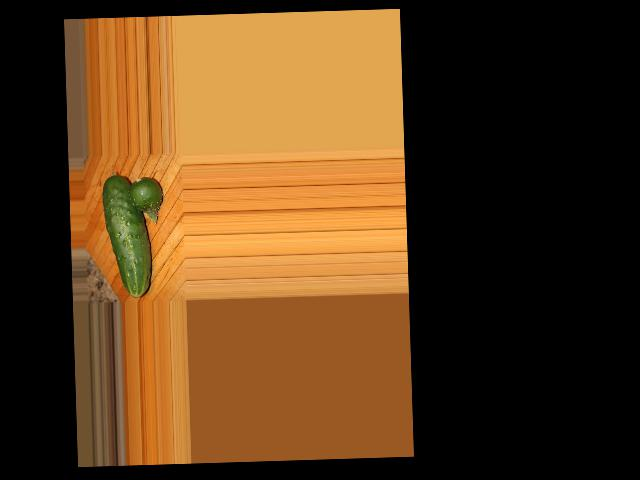cucumber: (102, 173, 152, 299)
